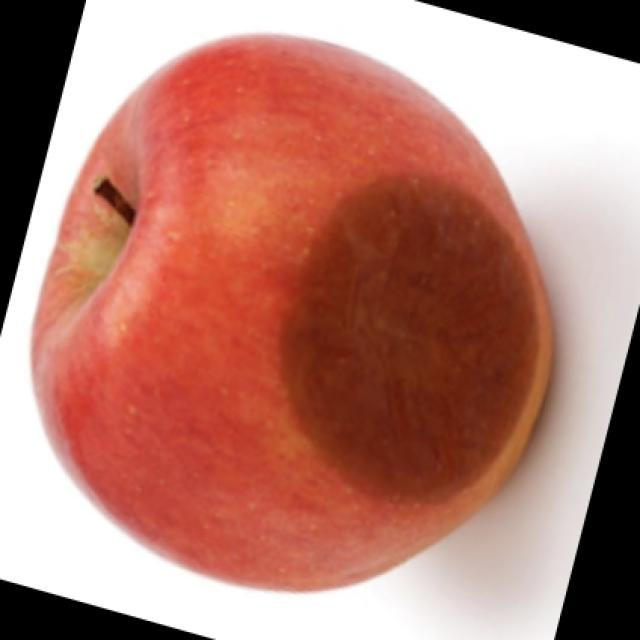Rotten: (62, 24, 543, 588)
